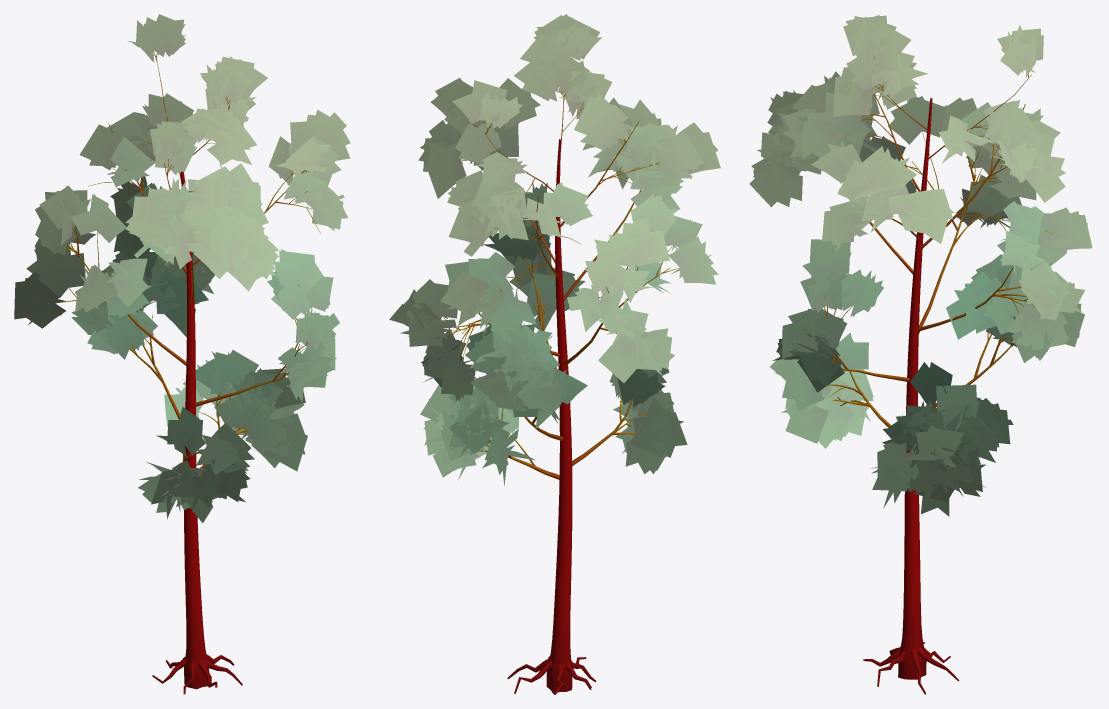
Rendered from linden_a.glb.
3 renders of one model, left to right at view 1: azimuth 30°, elevation 25°; view 2: azimuth 150°, elevation 25°; view 3: azimuth 270°, elevation 25°, orthographic. The views are drawn at different scales.
Visible parts, largest first — view 1: LOD0; view 2: LOD0; view 3: LOD0.
Part boxes in pixels (box(x1,y1,x2,y2)): LOD0: box(14, 14, 350, 694); LOD0: box(389, 14, 720, 694); LOD0: box(749, 15, 1092, 694).
Size of what is drawn, in the model's own units: 9.97 by 21.06 by 9.89.
